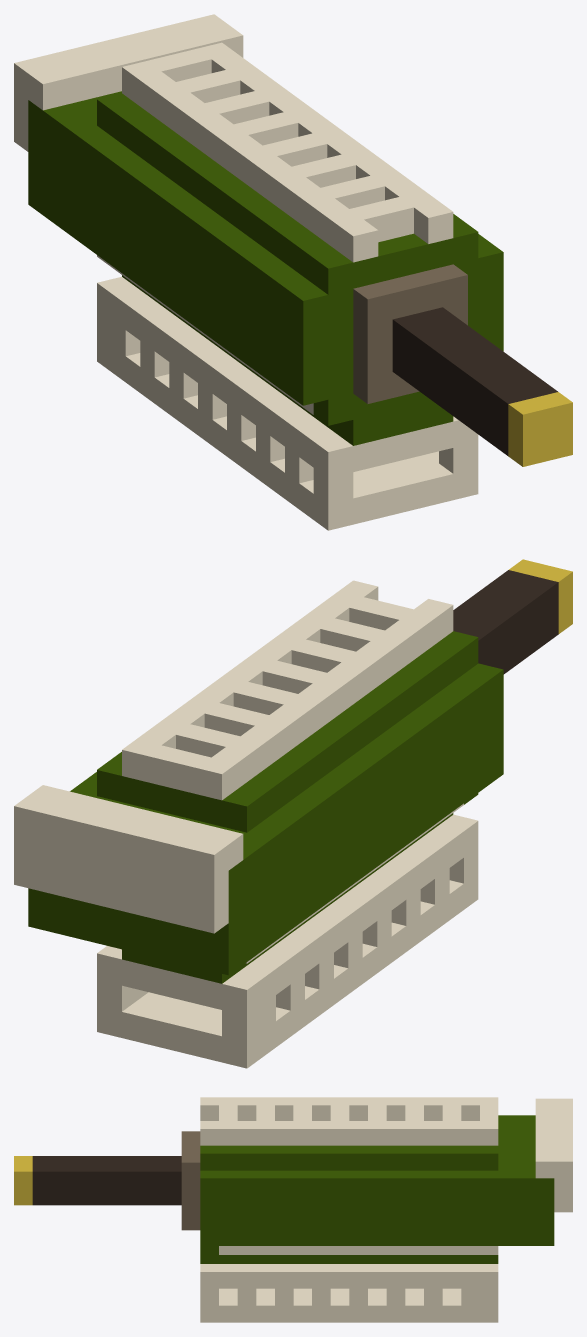
File: tower_weapon1.obj
The picture shows the model from 3 angles, top to bottom: view 1: azimuth 30°, elevation 25°; view 2: azimuth 150°, elevation 25°; view 3: azimuth 270°, elevation 25°; orthographic projection. The views are drawn at different scales.
Size of the model in its own units: 8 by 11 by 30.
1 material, 1 textured.
